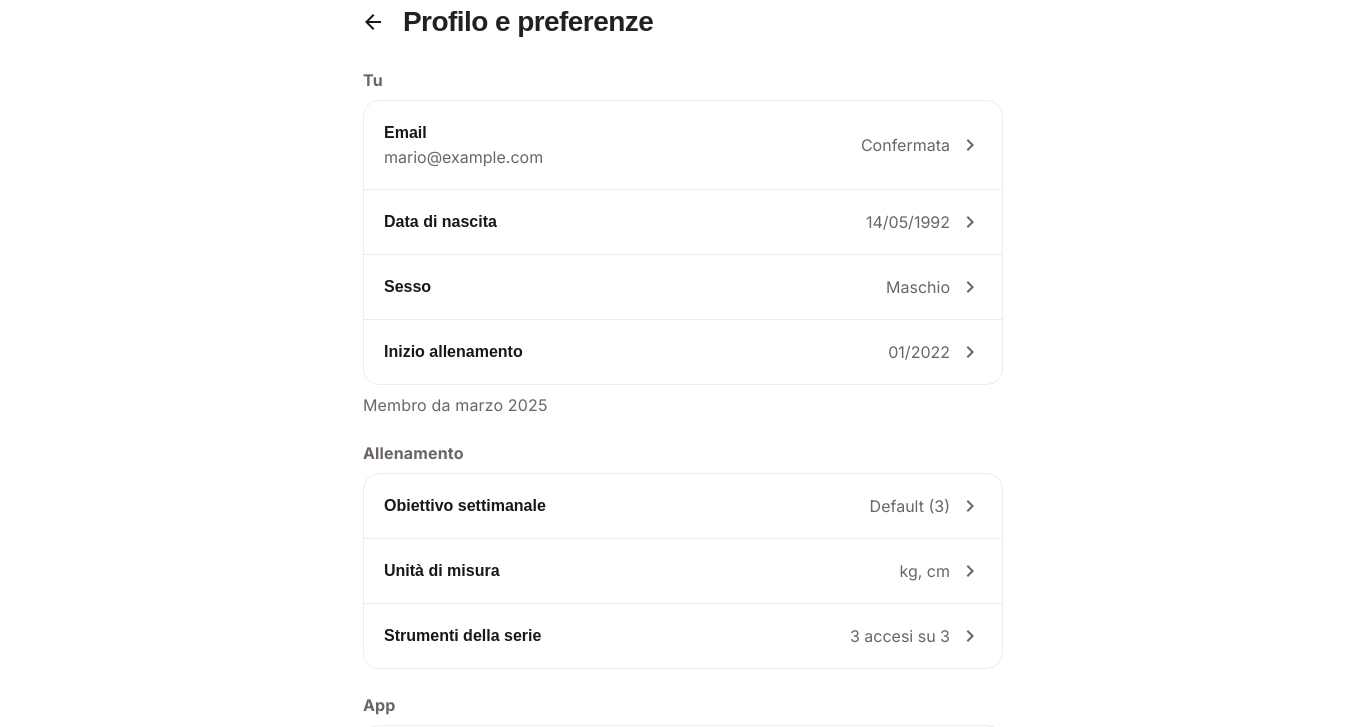
Test: il gruppo «Tu»: le finestre › chiusa la finestra di «Data di nascita» con «Annulla» il fuoco è sulla sua riga e non si è salvato nulla
The image size is (1366, 727).
Click the button "Data di nascita 14/05/1992". click: (440, 222)
box: x1=364 y1=190 x2=1002 y2=254
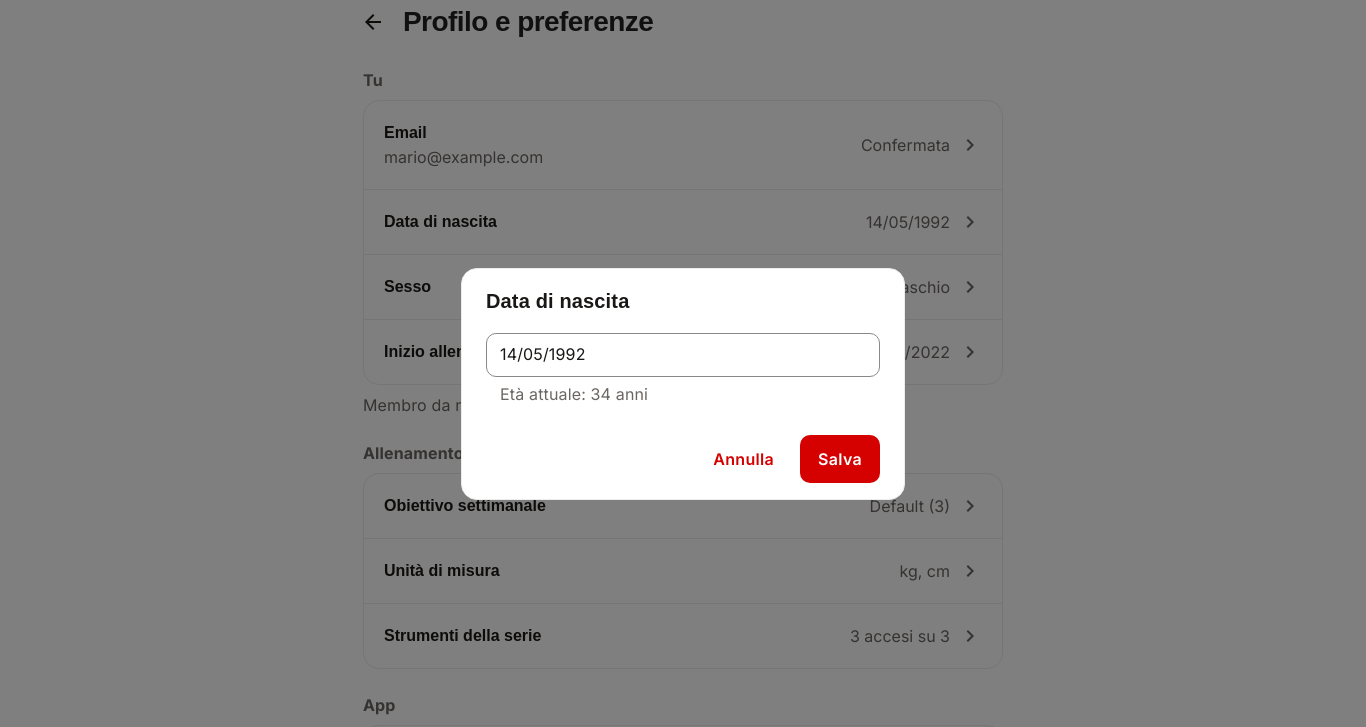
Click the button "Annulla". click: (744, 459)
box: x1=695 y1=435 x2=792 y2=483
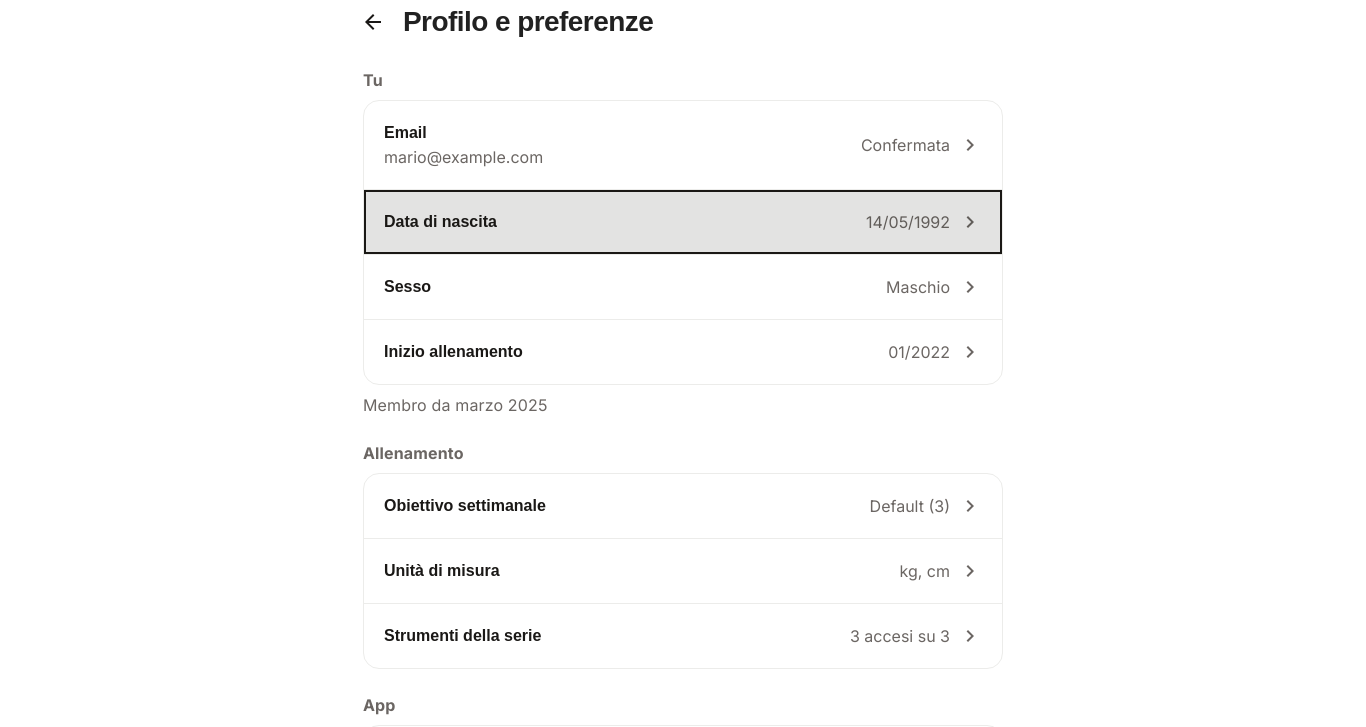
Expected: the dialog is gone
